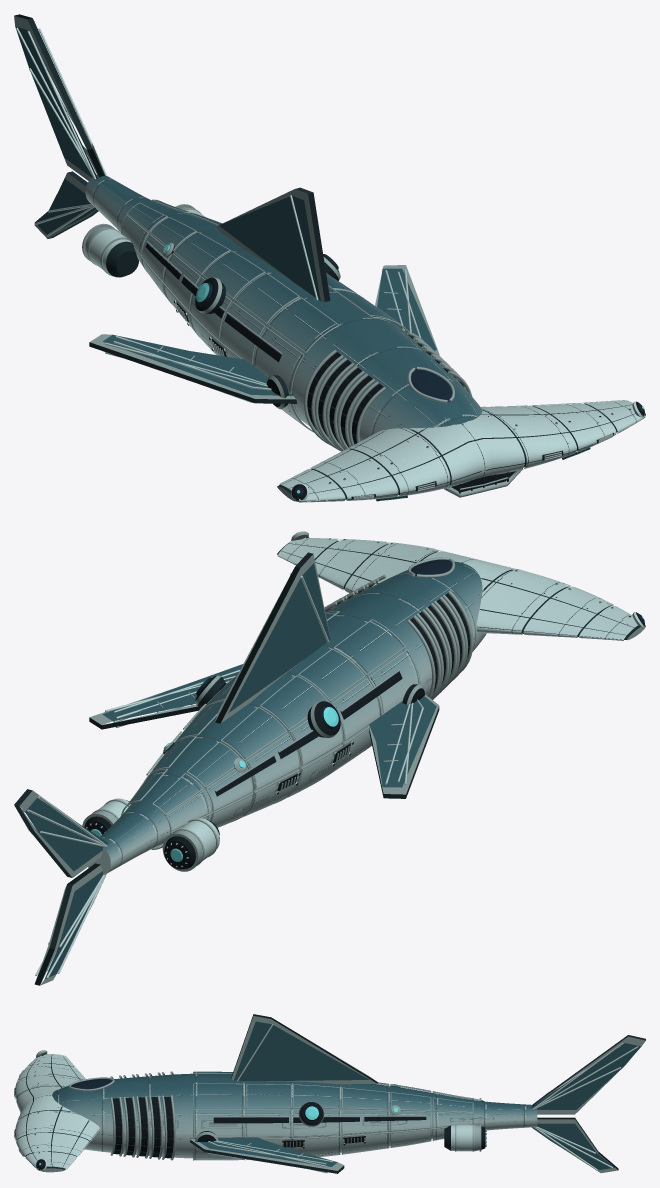
File: ship.glb
3 renders of one model, top to bottom at view 1: azimuth 30°, elevation 25°; view 2: azimuth 150°, elevation 25°; view 3: azimuth 270°, elevation 25°, orthographic. The views are drawn at different scales.
Parts seen in each view (by area): view 1: hammerhead_hull; view 2: hammerhead_hull; view 3: hammerhead_hull.
Boxes of the visible parts, x1,y1,x2,y2 form: hammerhead_hull: (14, 14, 645, 502); hammerhead_hull: (14, 531, 645, 985); hammerhead_hull: (14, 1014, 645, 1173).
Size of the model in its own units: 117 by 74.76 by 272.
Materials: 1 (1 with a texture image).
